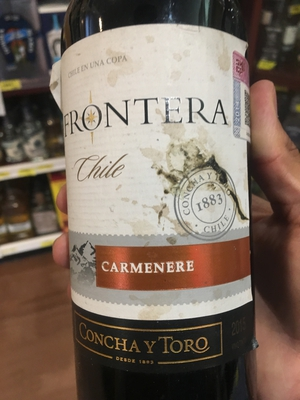frontera carmenere: (52, 4, 260, 400)
